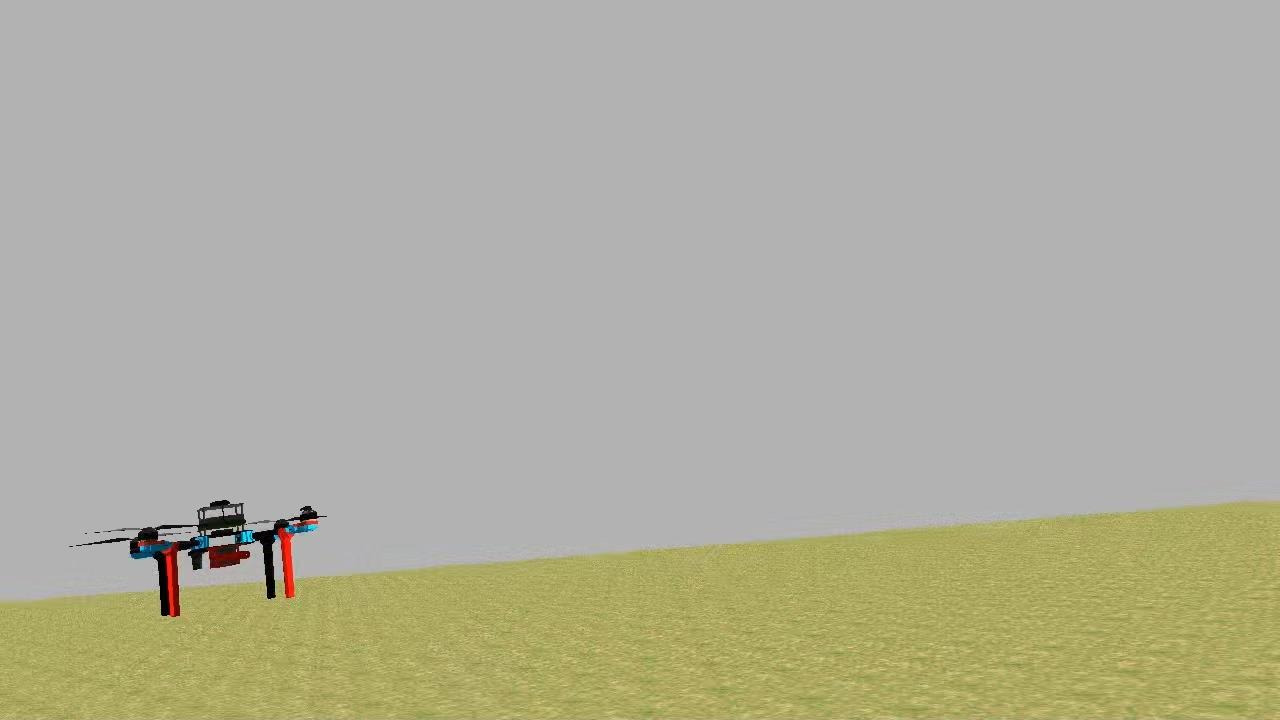UAV: (124, 486, 322, 620)
